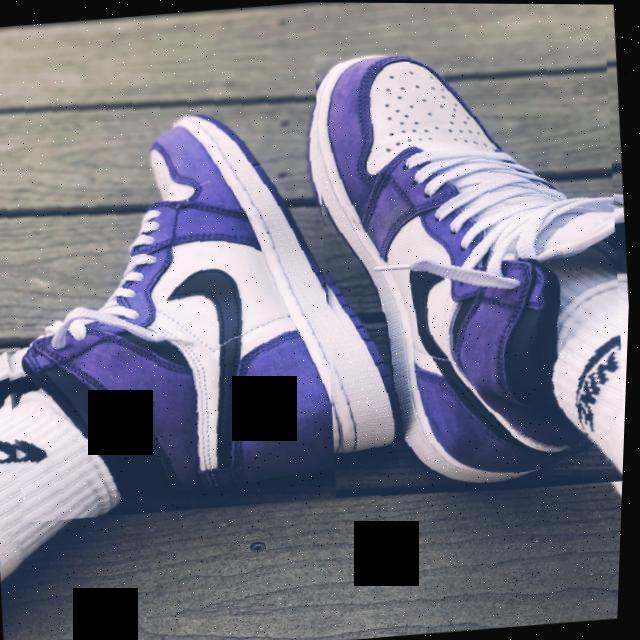shoe: (287, 2, 640, 505), (0, 43, 353, 525)
